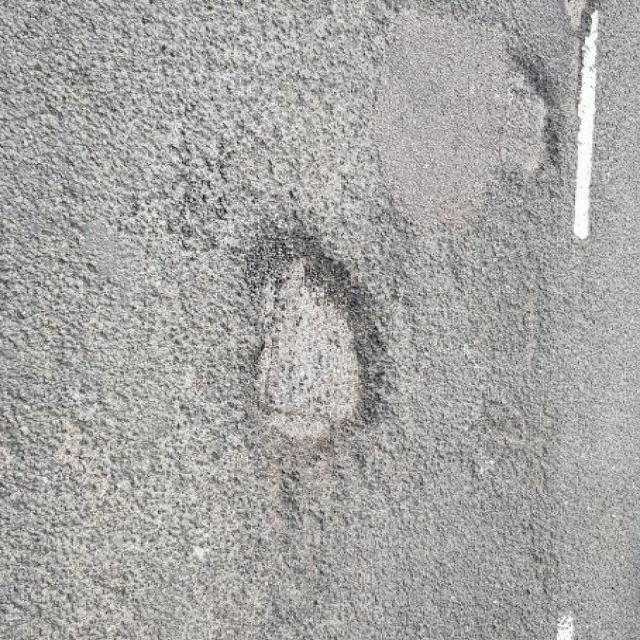pothole: (230, 212, 398, 464), (466, 48, 576, 184)
